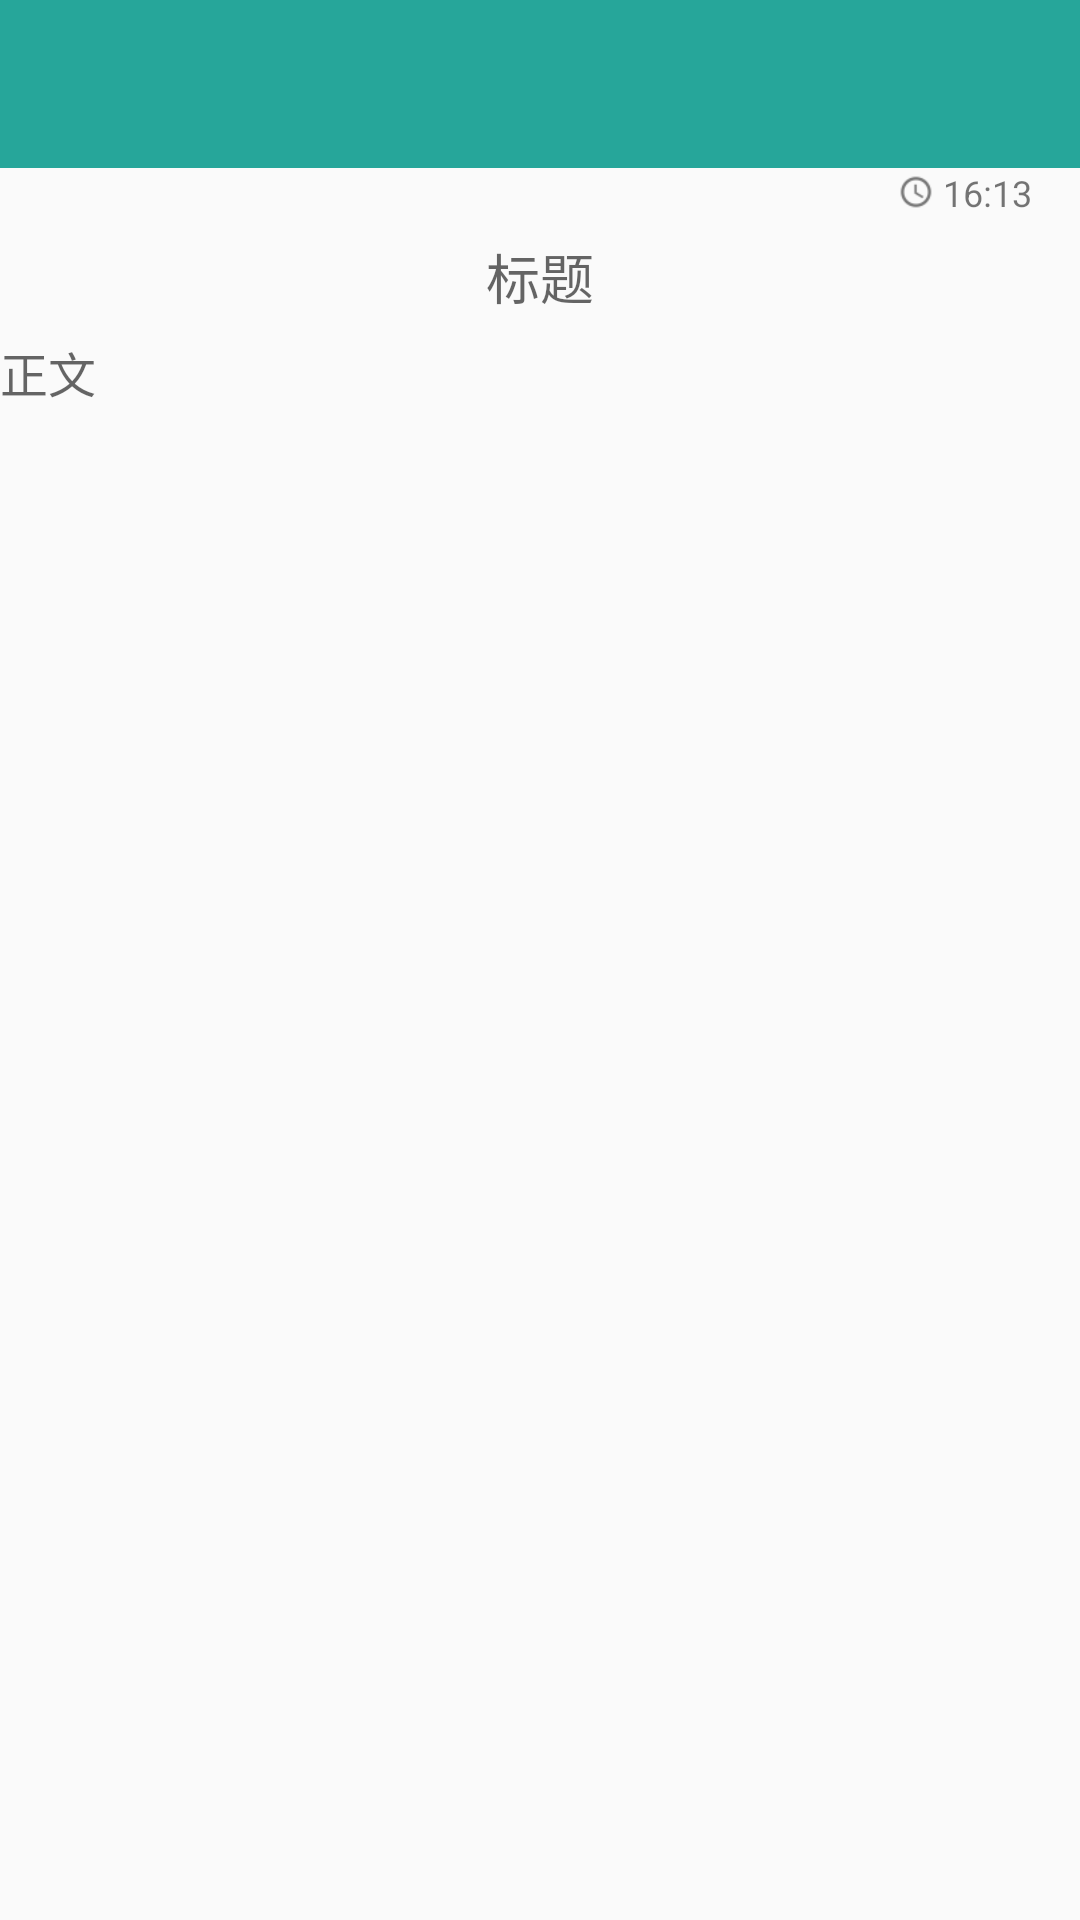

Where to tap for icons on this 1080x1920 app screen, as point (x, y):
access time: point (916, 192)
